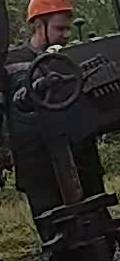helmet: (25, 0, 73, 22)
vest: (1, 39, 45, 82)
